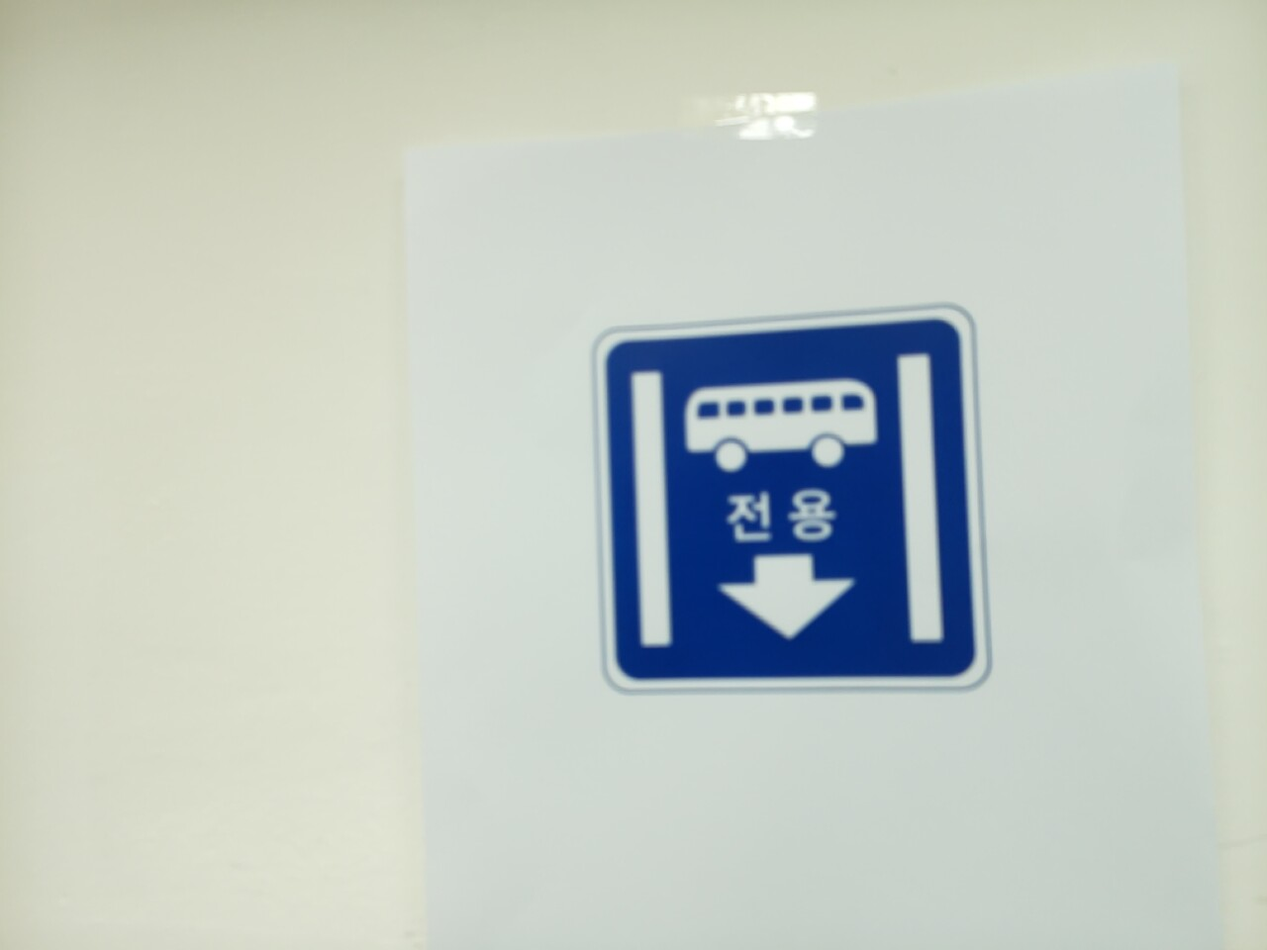bus_only_lane: (595, 308, 986, 691)
